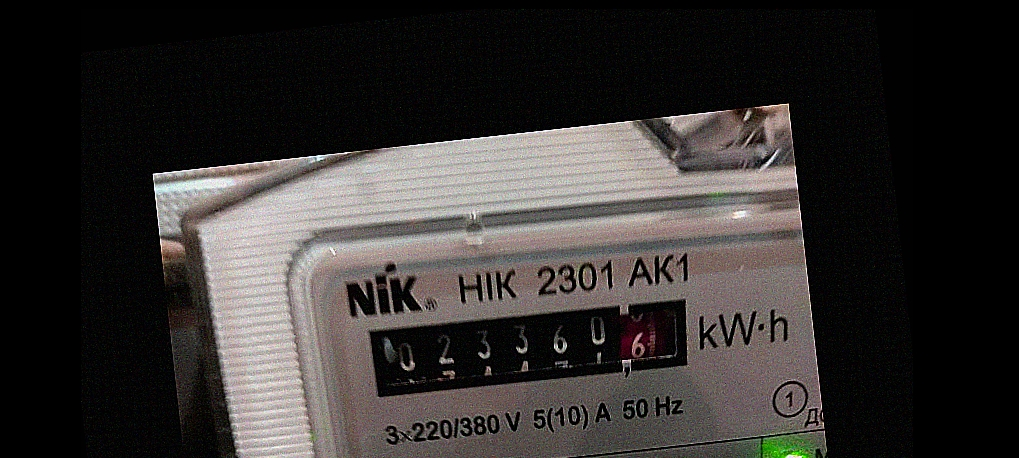0: (393, 337, 419, 374), (585, 312, 610, 349)
2: (433, 331, 458, 368)
3: (472, 326, 495, 363), (510, 321, 532, 357)
6: (547, 320, 571, 356), (627, 327, 648, 361)
screen: (354, 282, 714, 419)
